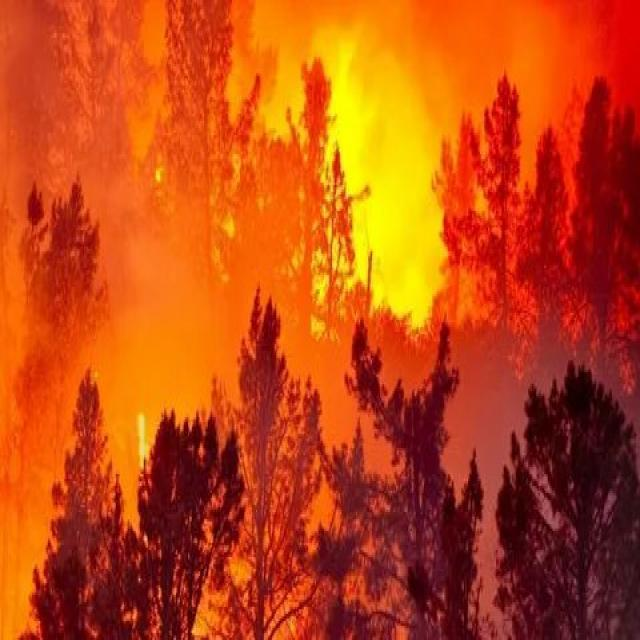Fire: (270, 41, 483, 342)
